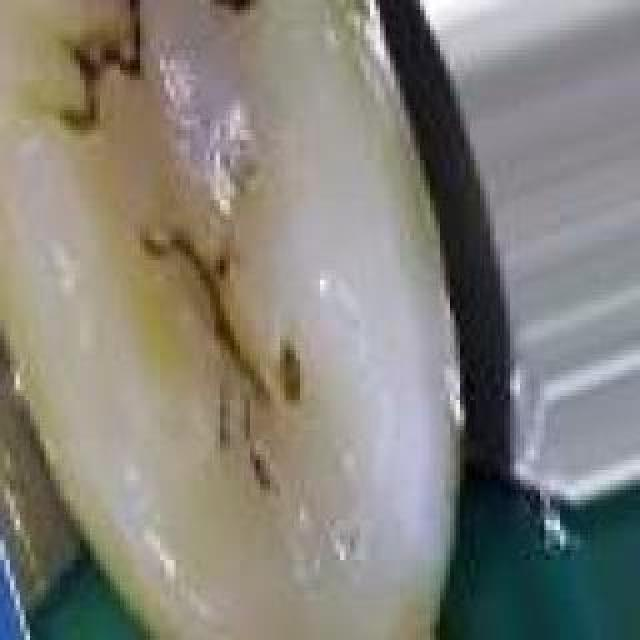cavities: (4, 0, 344, 484)
